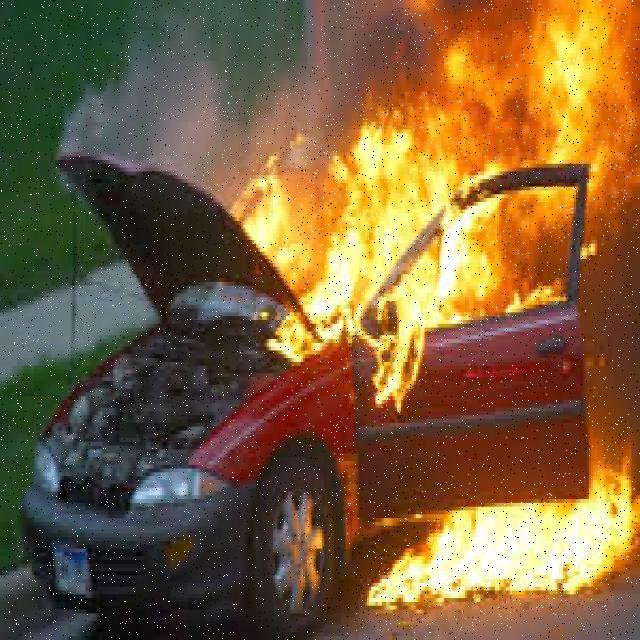fire: (283, 119, 507, 341), (375, 499, 640, 604)
